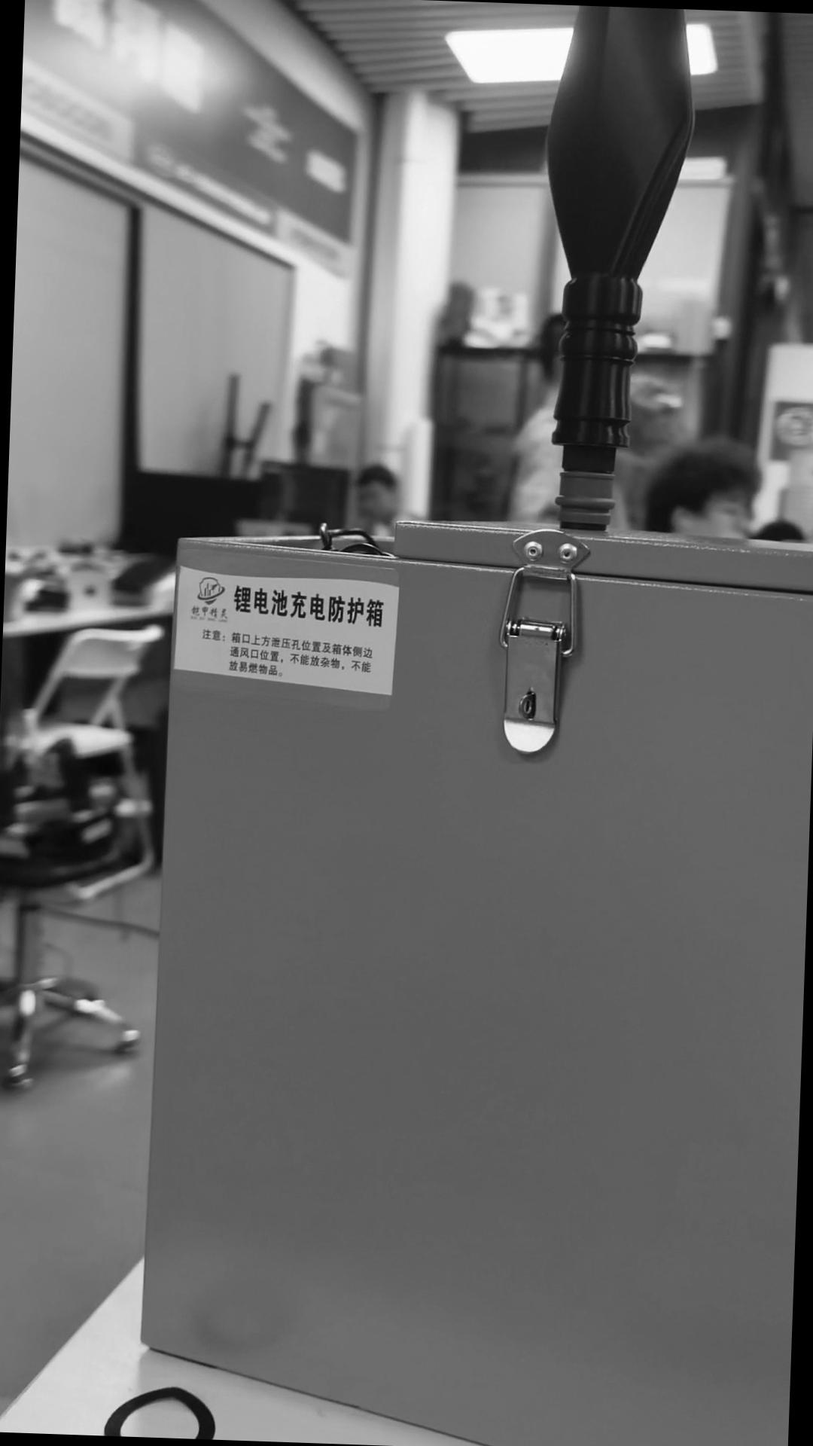base: (554, 467, 616, 529)
